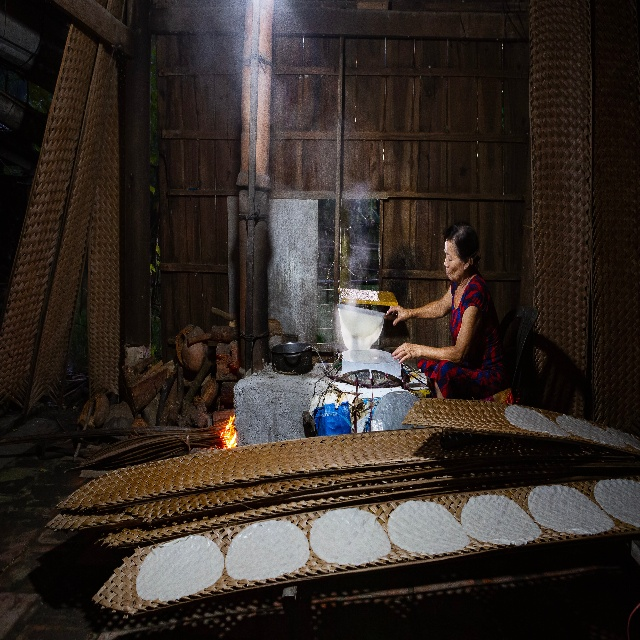Sin_guantes: (391, 342, 422, 364), (386, 304, 409, 327)
